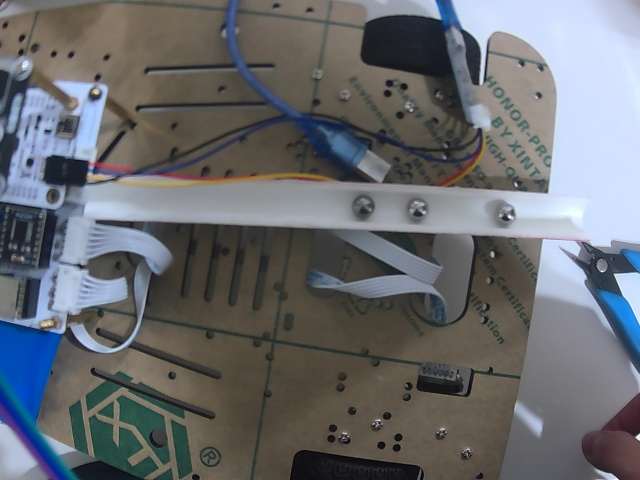steelball: (351, 195, 374, 219), (407, 198, 429, 220), (497, 203, 516, 224)
